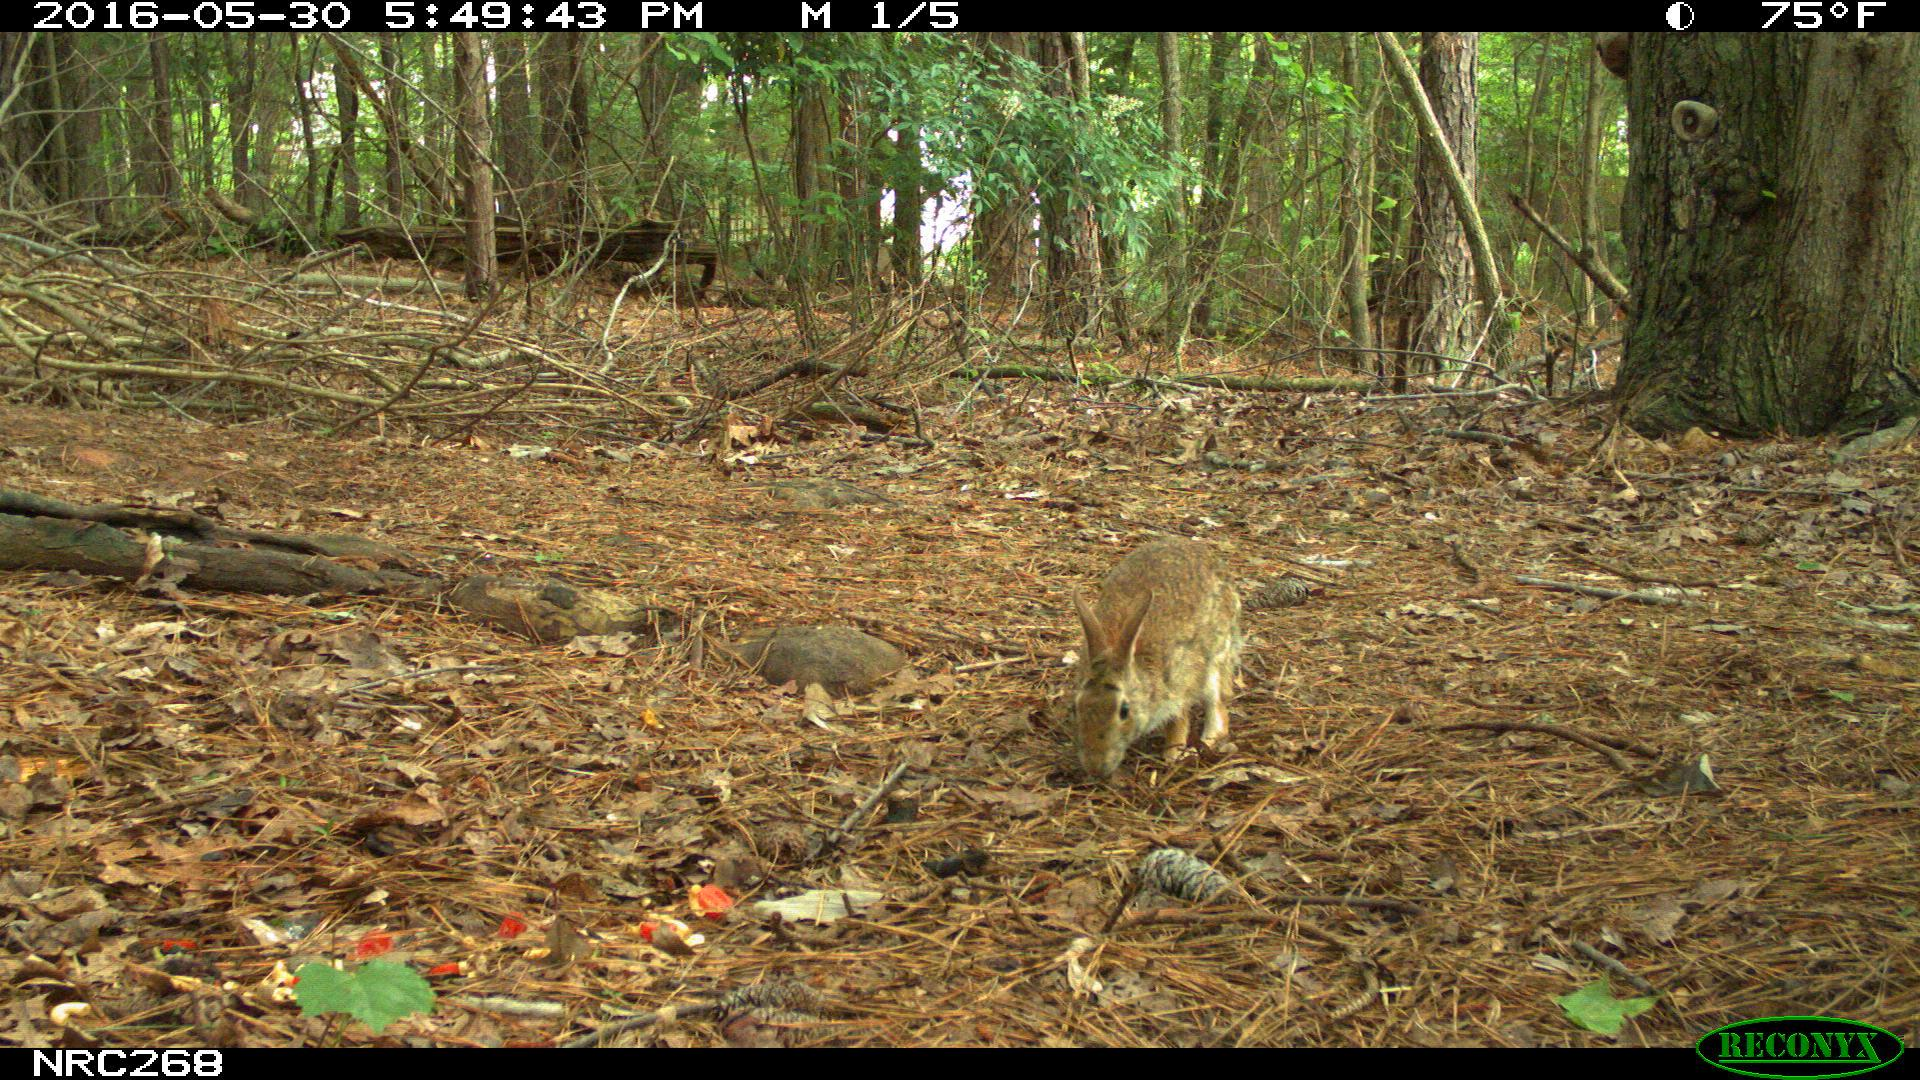Animal: (1073, 535, 1241, 777)
